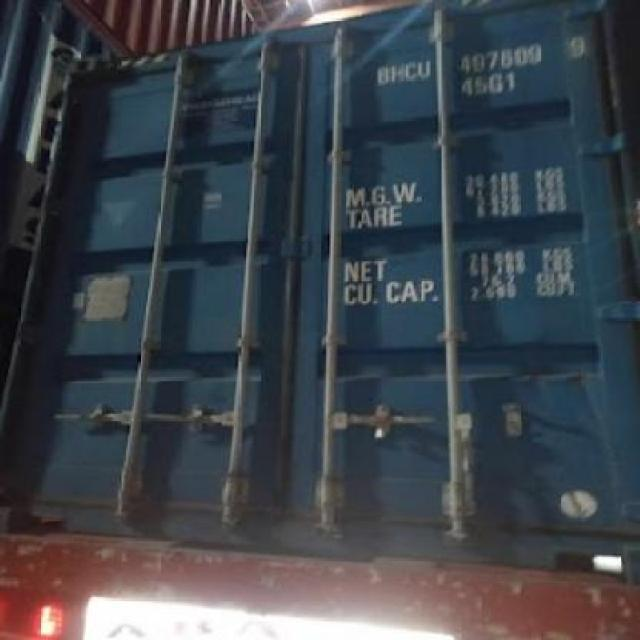ISO: (459, 72, 519, 95)
container_number: (378, 38, 585, 72)
